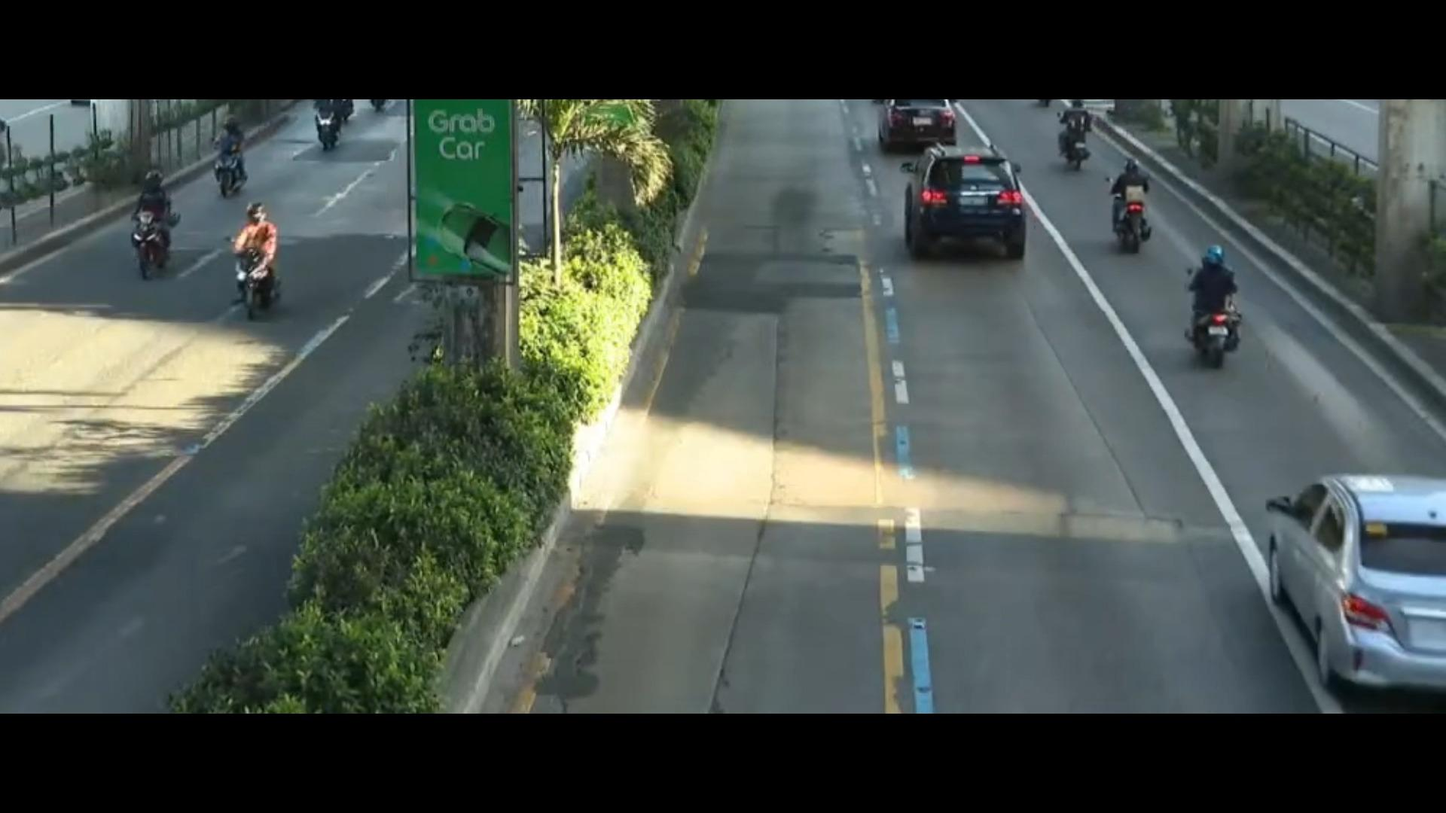Motorcycle: (109, 164, 216, 300), (1167, 237, 1258, 393), (218, 196, 312, 336), (1096, 143, 1173, 268), (189, 91, 269, 207), (1045, 101, 1104, 177), (301, 94, 349, 157)
Sedan: (1253, 454, 1446, 705), (887, 140, 1032, 276), (872, 101, 962, 157)
